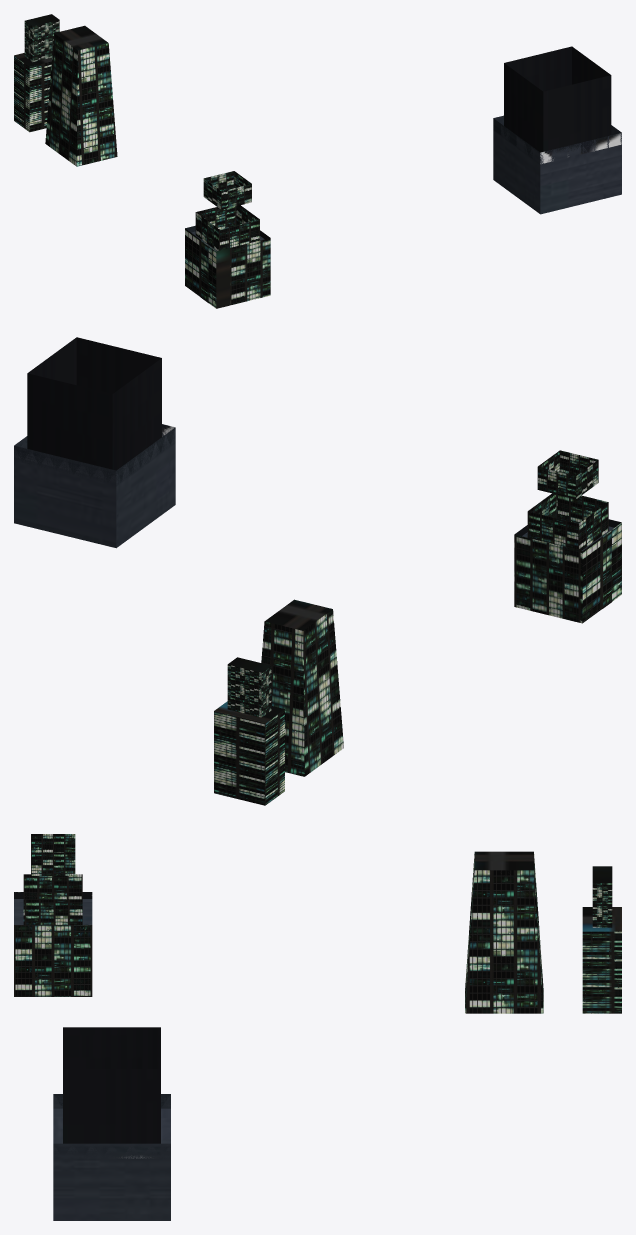
The model's file is grandesEdificios2.obj.
The picture shows the model from 3 angles, top to bottom: view 1: azimuth 30°, elevation 25°; view 2: azimuth 150°, elevation 25°; view 3: azimuth 270°, elevation 25°; orthographic projection. The views are drawn at different scales.
Visible parts, largest first — view 1: GrandesEdificios_Cube.028; view 2: GrandesEdificios_Cube.028; view 3: GrandesEdificios_Cube.028.
Boxes of the visible parts, x1,y1,x2,y2 form: GrandesEdificios_Cube.028: [14, 14, 621, 308]; GrandesEdificios_Cube.028: [14, 337, 621, 805]; GrandesEdificios_Cube.028: [14, 834, 621, 1220].
Bounding box in the file's own units: 7.75 × 2.08 × 7.75.
